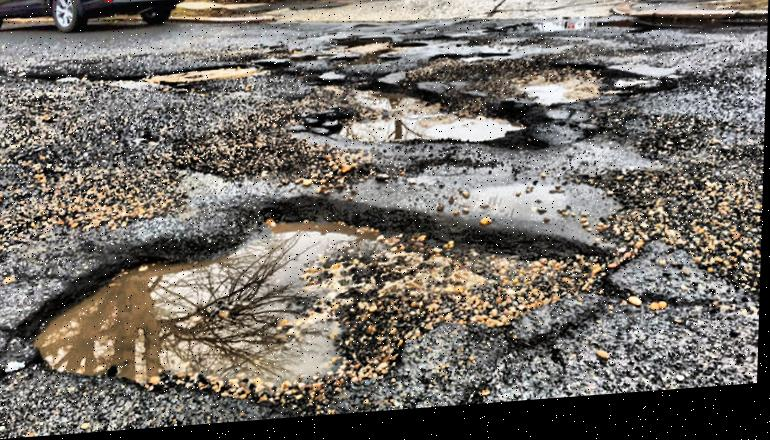pothole: (19, 179, 616, 430), (314, 71, 493, 168), (493, 57, 640, 125), (138, 61, 258, 91), (338, 43, 395, 67)
